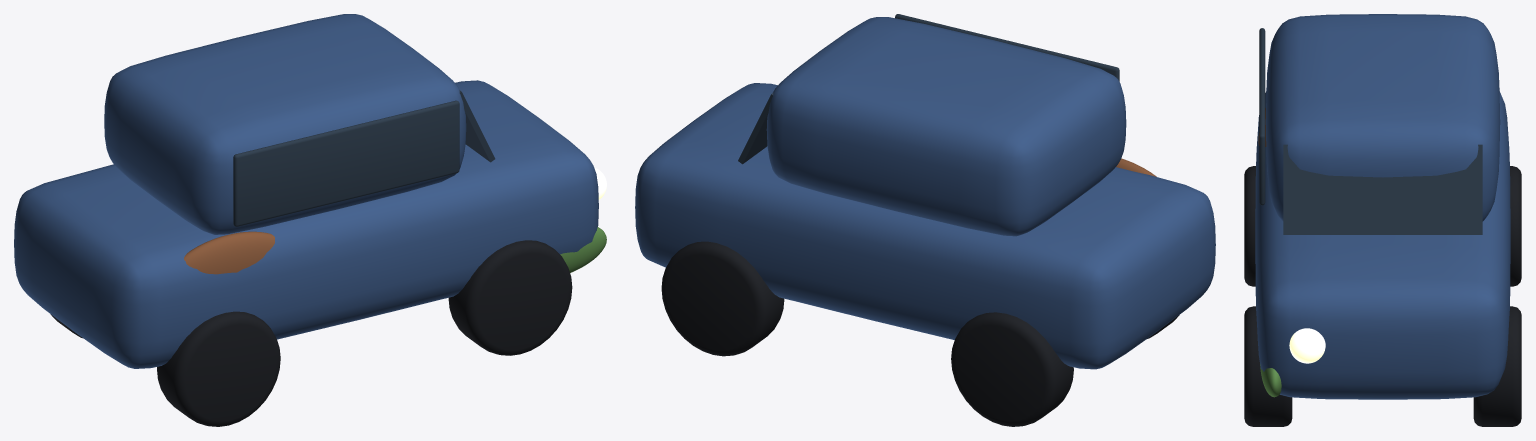
File: car1.glb
The picture shows the model from 3 angles, left to right: view 1: azimuth 30°, elevation 25°; view 2: azimuth 150°, elevation 25°; view 3: azimuth 270°, elevation 25°; orthographic projection.
Parts seen in each view (by area): view 1: body.034, cabin.004, winS.004, tire.016, tire.018, rust.004, moss.004, winF.004; view 2: body.034, cabin.004, tire.017, tire.019, winS.004, winF.004; view 3: body.034, cabin.004, winF.004, tire.019, tire.018, tire.016, tire.017, winS.004, lightF.004, moss.004.
Boxes of the visible parts, x1,y1,x2,y2 form: body.034: (14,80,598,368); cabin.004: (104,14,466,234); winS.004: (233,100,459,226); tire.016: (157,311,280,426); tire.018: (448,240,572,355); rust.004: (184,231,274,274); moss.004: (560,227,606,272); winF.004: (459,90,495,162); body.034: (635,83,1215,369); cabin.004: (766,17,1126,236); tire.017: (951,312,1073,426); tire.019: (661,241,784,356); winS.004: (895,14,1119,81); winF.004: (738,92,773,164); body.034: (1255,91,1510,399); cabin.004: (1265,14,1500,221); winF.004: (1283,144,1482,234); tire.019: (1473,306,1521,426); tire.018: (1244,306,1292,426); tire.016: (1244,166,1255,286); tire.017: (1510,166,1521,286); winS.004: (1259,28,1265,205); lightF.004: (1289,328,1325,363); moss.004: (1260,364,1281,397).
Size of the model in its own units: 1.9 by 1.01 by 0.92.
